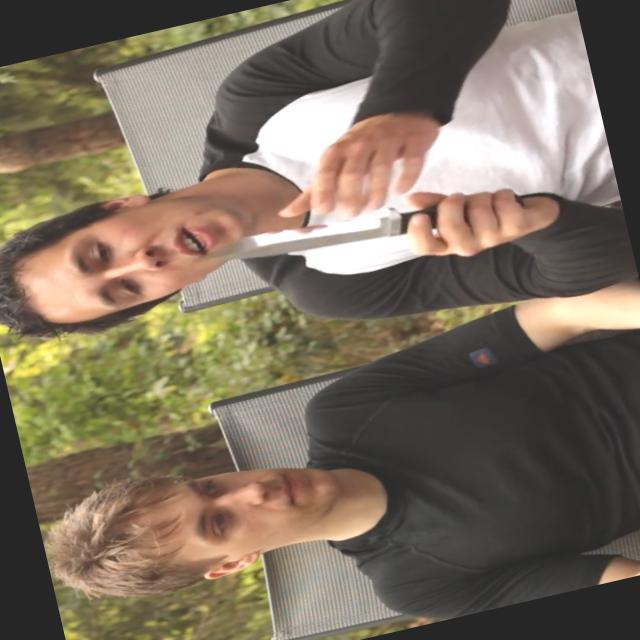knife: (166, 164, 533, 322)
